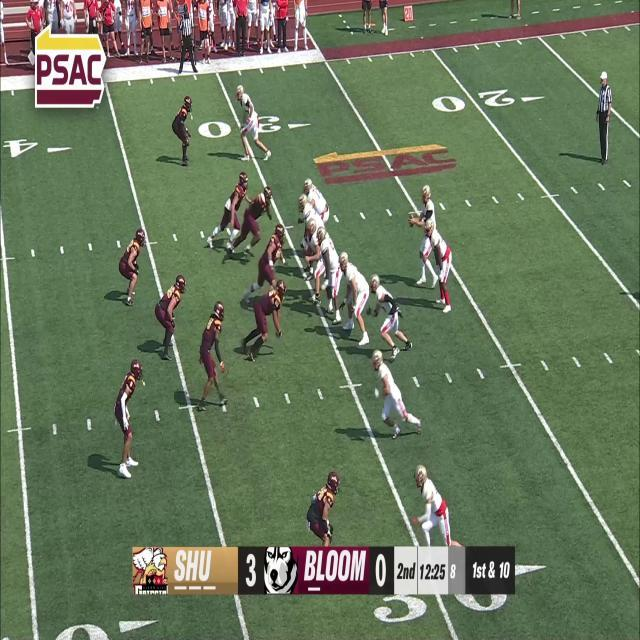football: (408, 214, 414, 229)
